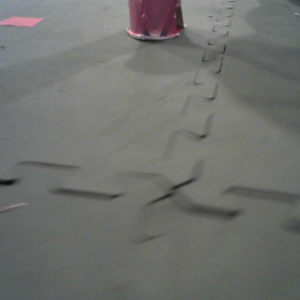right: (127, 1, 185, 40)
